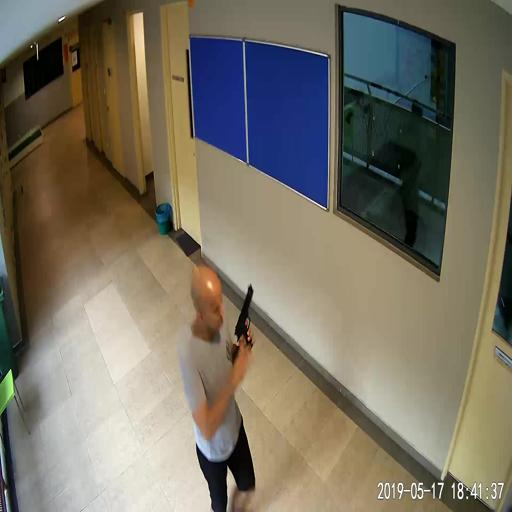pistol: (234, 283, 254, 350)
